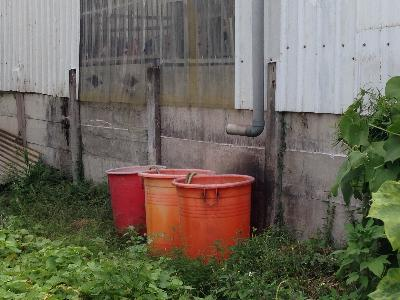bucket: (174, 174, 257, 270), (106, 165, 166, 242)
